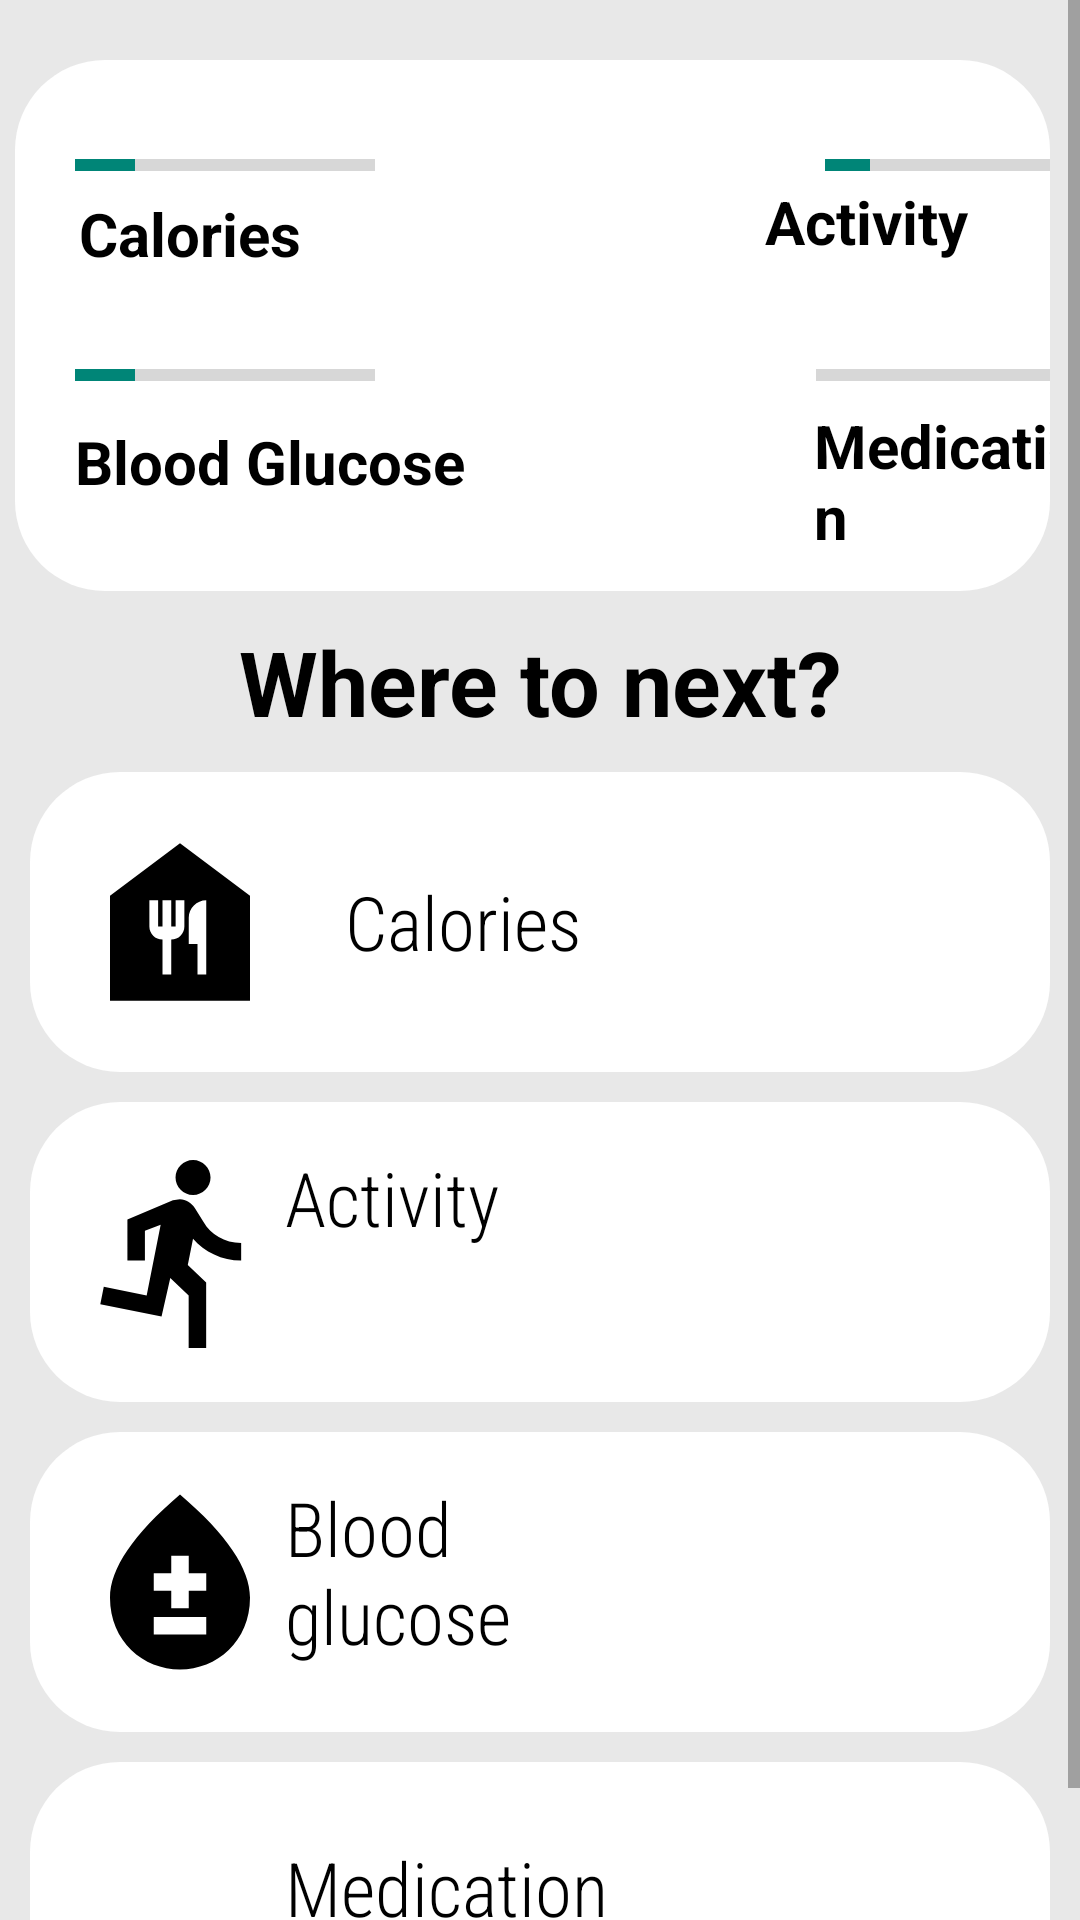

Screen size 1080×1920. Icon name, then its center in pixels as [x,y]:
directions run: [171,1254]
food bank: [180,922]
